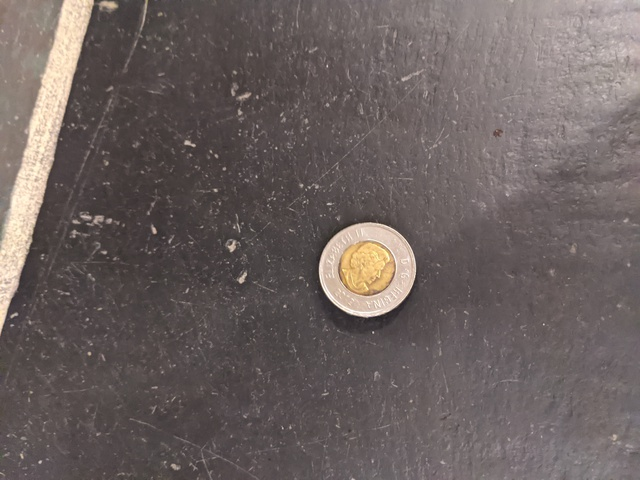twonie: (304, 208, 430, 317)
